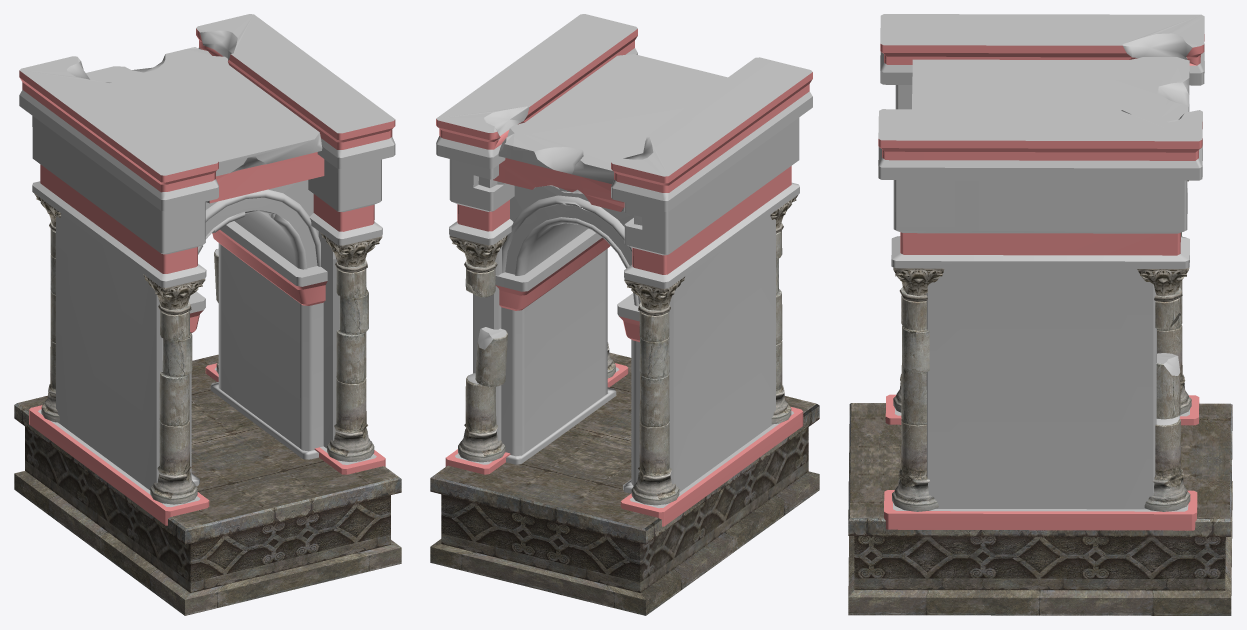
The model's file is Door0.fbx.
3 renders of one model, left to right at view 1: azimuth 30°, elevation 25°; view 2: azimuth 150°, elevation 25°; view 3: azimuth 270°, elevation 25°, orthographic. The views are drawn at different scales.
Visible parts, largest first — view 1: LV_Nigratruis_CastleArch_SM_HSH; view 2: LV_Nigratruis_CastleArch_SM_HSH; view 3: LV_Nigratruis_CastleArch_SM_HSH.
Boxes of the visible parts, bbox=[...] form: LV_Nigratruis_CastleArch_SM_HSH: bbox=[14, 14, 401, 615]; LV_Nigratruis_CastleArch_SM_HSH: bbox=[430, 14, 819, 615]; LV_Nigratruis_CastleArch_SM_HSH: bbox=[848, 14, 1232, 615].
Size of the model in its own units: 2.35 by 4.12 by 3.
